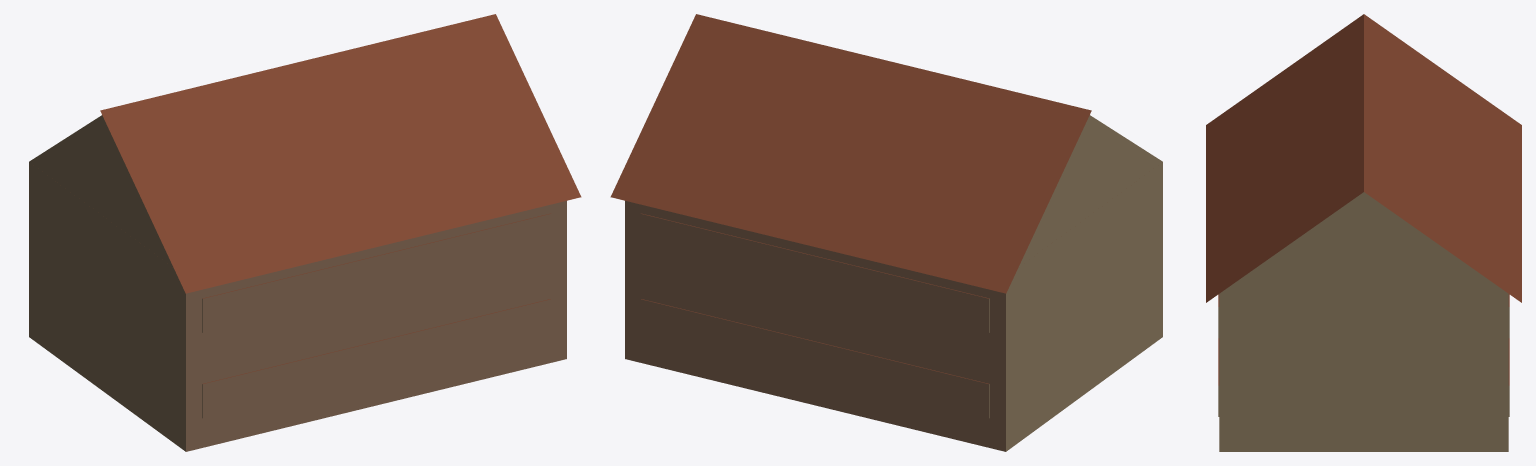
The model's file is village-inn.far-facades-v2.lod2.glb.
The picture shows the model from 3 angles, left to right: view 1: azimuth 30°, elevation 25°; view 2: azimuth 150°, elevation 25°; view 3: azimuth 270°, elevation 25°; orthographic projection. The views are drawn at different scales.
Visible parts, largest first — view 1: village-inn; view 2: village-inn; view 3: village-inn.
Boxes of the visible parts, left/top/right/bottom form: village-inn: left=29, top=14, right=581, bottom=451; village-inn: left=610, top=14, right=1162, bottom=451; village-inn: left=1206, top=14, right=1521, bottom=451.
Bounding box in the file's own units: 14.54 × 10.03 × 10.9.
